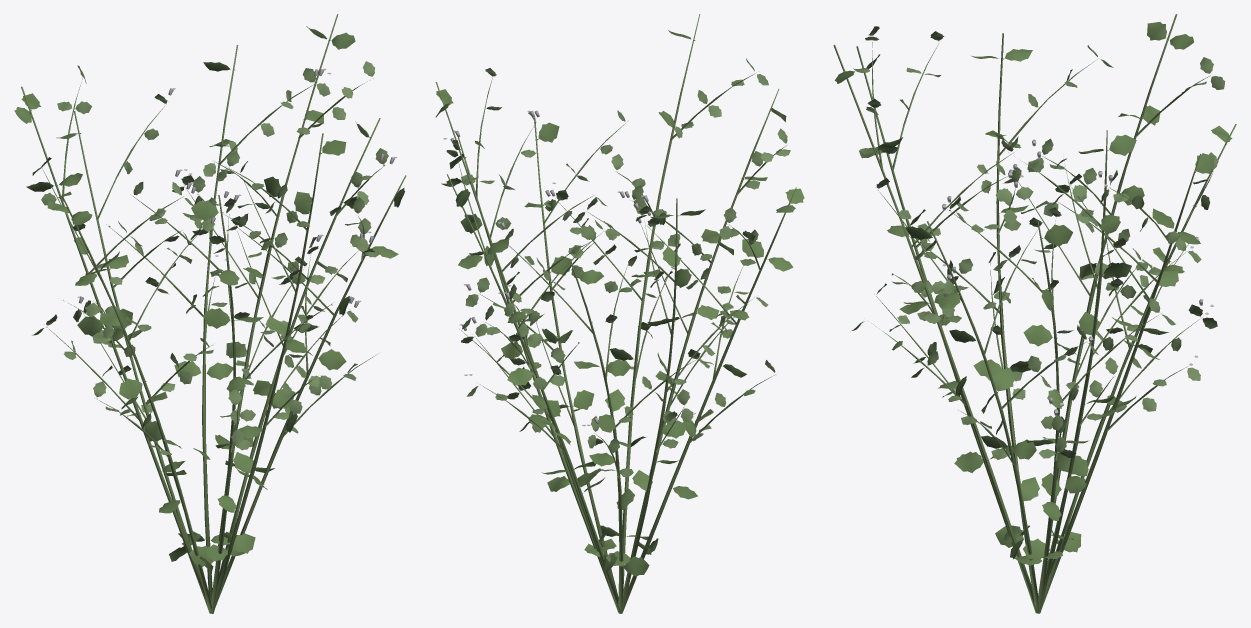
Rendered from Nepita_1_Niveau0.fbx.
The picture shows the model from 3 angles, left to right: view 1: azimuth 30°, elevation 25°; view 2: azimuth 150°, elevation 25°; view 3: azimuth 270°, elevation 25°; orthographic projection. The views are drawn at different scales.
Parts seen in each view (by area): view 1: Nepita_1_Niveau0; view 2: Nepita_1_Niveau0; view 3: Nepita_1_Niveau0.
Boxes of the visible parts, x1,y1,x2,y2 form: Nepita_1_Niveau0: (14,14,406,613); Nepita_1_Niveau0: (435,14,804,613); Nepita_1_Niveau0: (833,14,1236,613).
Bounding box in the file's own units: 27.8 × 42.7 × 27.1.
